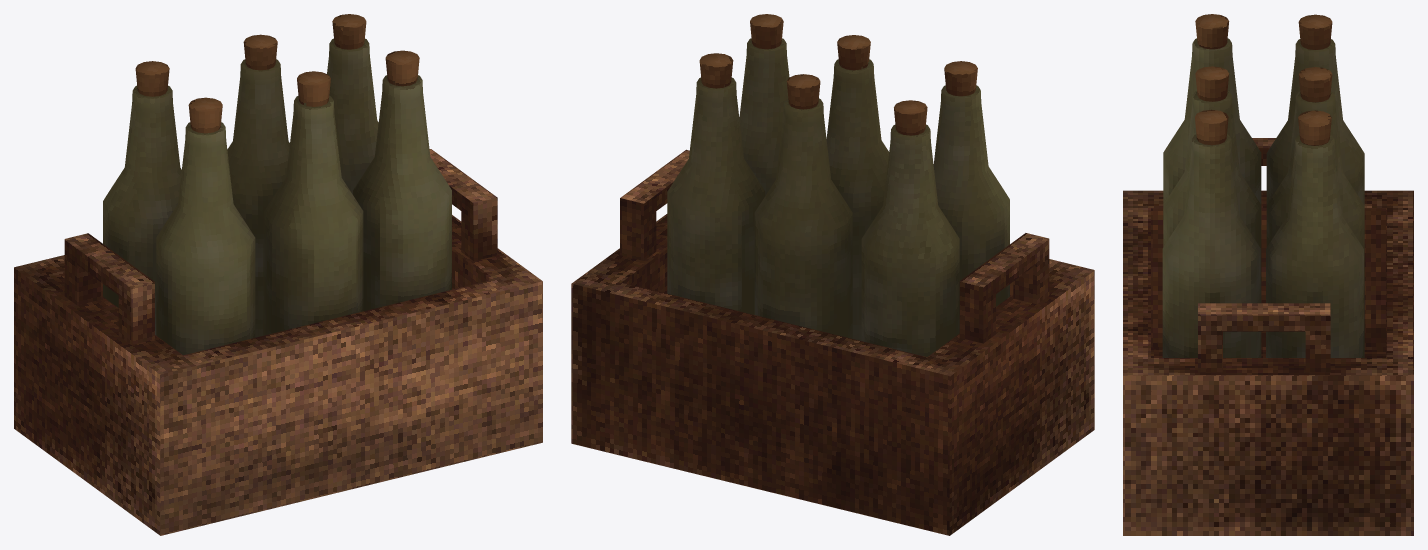
File: Wine_Box.gltf
3 views of the same model, side by side, from view 1: azimuth 30°, elevation 25°; view 2: azimuth 150°, elevation 25°; view 3: azimuth 270°, elevation 25° (orthographic).
Visible parts, largest first — view 1: Wine_Box; view 2: Wine_Box; view 3: Wine_Box.
Boxes of the visible parts, bbox=[...] form: Wine_Box: bbox=[14, 14, 542, 535]; Wine_Box: bbox=[571, 14, 1094, 535]; Wine_Box: bbox=[1123, 14, 1413, 535].
Size of the model in its own units: 3.43 by 3.23 by 2.28.
1 material, 1 textured.
